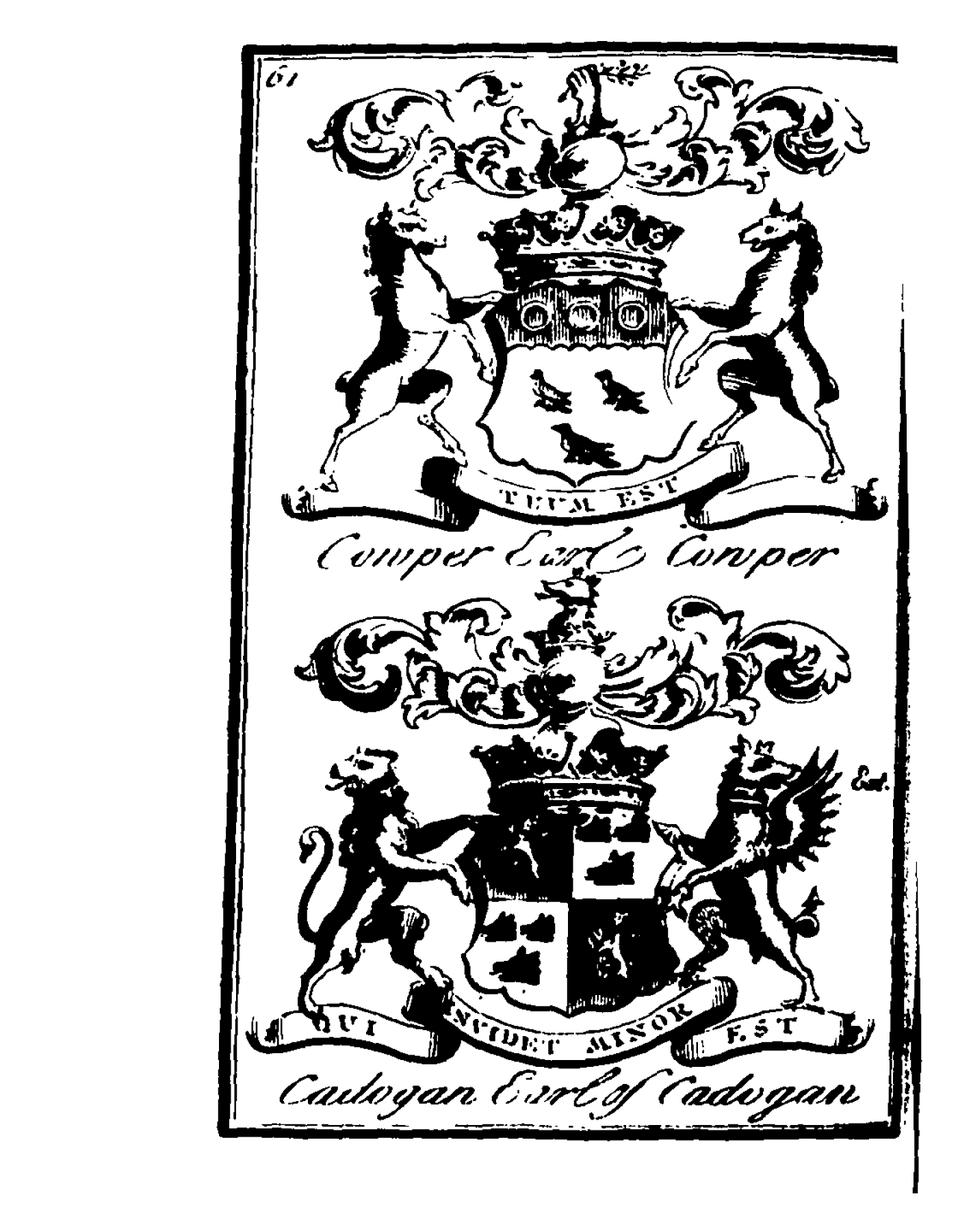coat_of_arms: (263, 580, 877, 1118), (263, 55, 886, 578)
